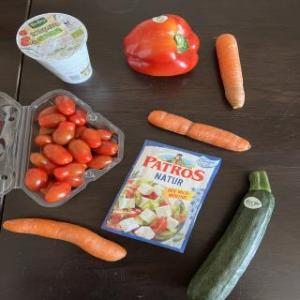bell_pepper: (124, 12, 200, 84)
carrot: (0, 214, 128, 268), (146, 108, 252, 156), (213, 24, 249, 112)
tomato: (42, 176, 74, 206), (42, 140, 72, 166), (50, 92, 78, 116), (50, 122, 78, 146), (78, 128, 108, 150), (23, 167, 49, 192)
